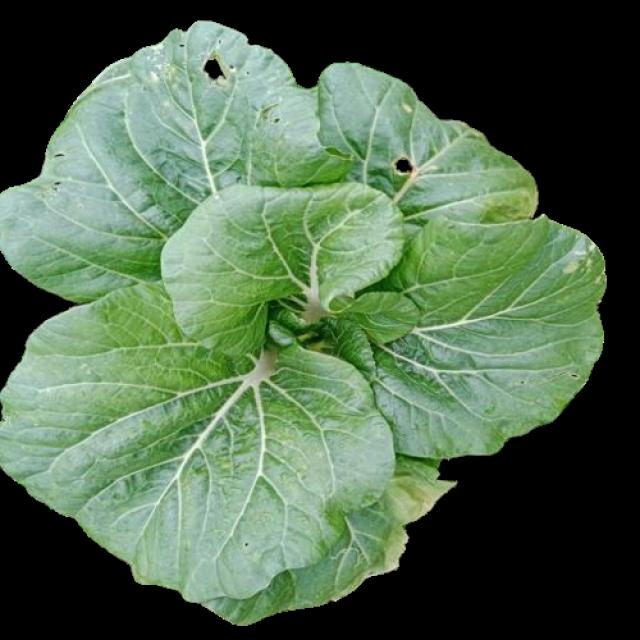mature: (2, 23, 606, 623)
unhealthy: (7, 285, 396, 594), (5, 25, 320, 283), (389, 216, 602, 458), (314, 60, 538, 234)
